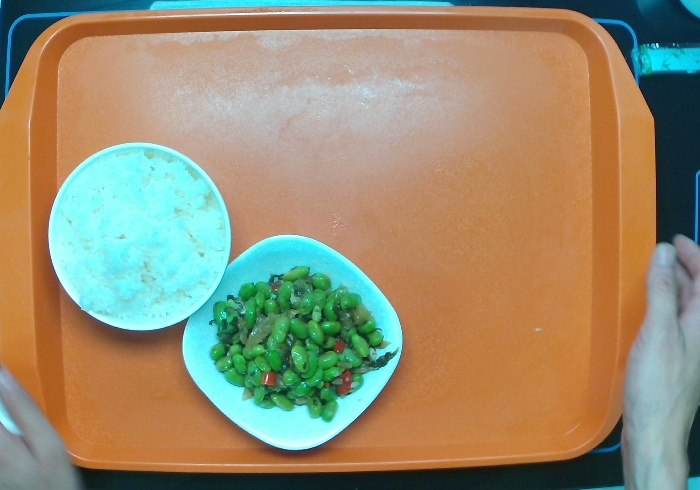ZNLD-Fan_Wan: (45, 141, 234, 333)
ZNLD-Si_Fang_Wan: (179, 232, 404, 452)
